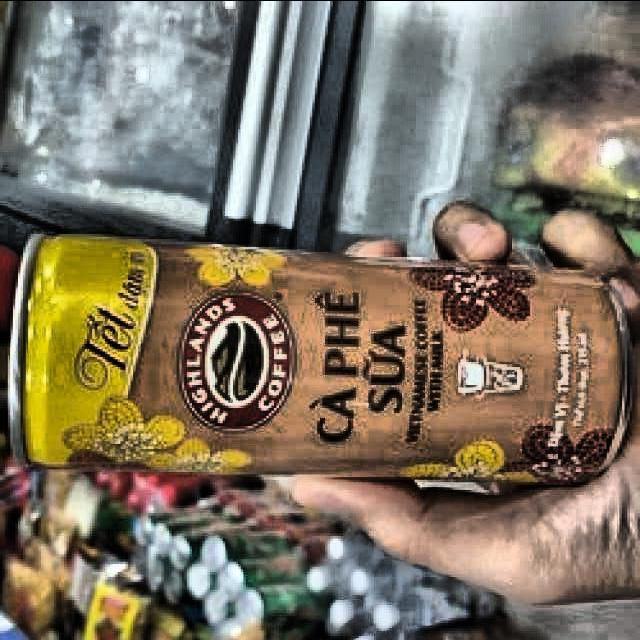Aluminum Can: (11, 230, 638, 489), (199, 532, 298, 572), (215, 555, 295, 596), (235, 584, 306, 626), (161, 529, 202, 572), (199, 581, 227, 619), (184, 561, 212, 596)
